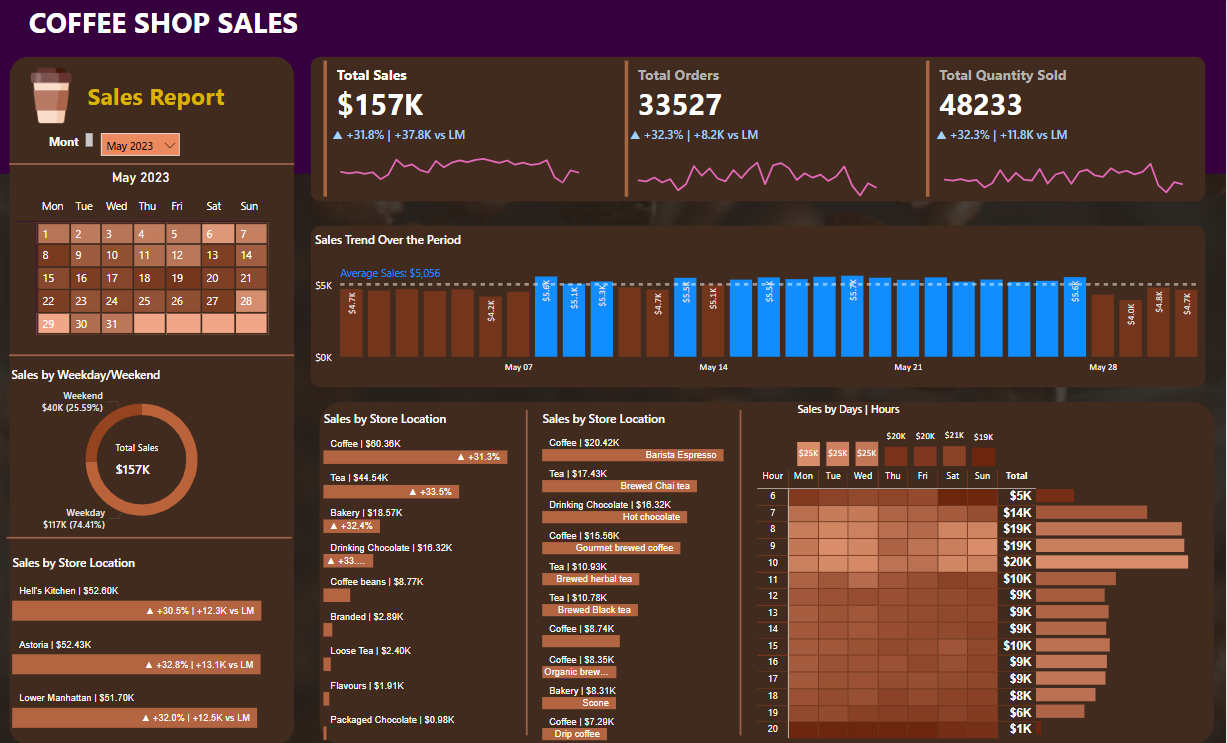

Layout of this report page (visuals, bound fields, positions):
{"tool":"powerbi","page":{"name":"Page 1","canvas":[1400,850],"ordinal":0},"visuals":[{"type":"shape","box":[366,458.6,1019.8,391.7],"z":0},{"type":"shape","box":[0,0,1400.1,199.4],"z":1000},{"type":"shape","box":[12.8,65.5,324.7,784.8],"z":2000},{"type":"shape","box":[356.1,65.5,1019.8,165.2],"z":3000},{"type":"textbox","box":[29.9,0,336.1,65.5],"z":4000},{"type":"cardVisual","fields":{"Data":["Transactions.Total Sales"]},"box":[366,65.5,300.5,165.2],"z":5000},{"type":"slicer","fields":{"Values":["Date Table.Month Year"]},"box":[112.5,148.1,99.7,34.2],"z":6000},{"type":"lineChart","fields":{"Category":["Date Table.Date Hierarchy.Date"],"Y":["Transactions.Total Sales"]},"box":[376,145.3,300.5,85.5],"z":7000},{"type":"cardVisual","fields":{"Data":["Transactions.Total Orders"]},"box":[709.3,65.5,300.5,165.2],"z":8000},{"type":"lineChart","fields":{"Category":["Date Table.Date Hierarchy.Date"],"Y":["Transactions.Total Orders"]},"box":[715,145.3,300.5,85.5],"z":9000},{"type":"cardVisual","fields":{"Data":["Transactions.Total Quantity Sold"]},"box":[1052.5,65.5,300.5,165.2],"z":10000},{"type":"lineChart","fields":{"Category":["Date Table.Date Hierarchy.Date"],"Y":["Transactions.Total Quantity Sold"]},"box":[1063.9,145.3,300.5,85.5],"z":11000},{"type":"pivotTable","fields":{"Rows":["Date Table.Week Number"],"Columns":["Date Table.Day Name"],"Values":["Min(Date Table.Day Number)"]},"box":[12.8,219.3,304.8,189.4],"z":12000},{"type":"cardVisual","fields":{"Data":["Min(Date Table.Month Year)"]},"box":[112.5,169.5,105.4,49.8],"z":13000},{"type":"shape","box":[12.8,387.4,324.7,37],"z":14000},{"type":"shape","box":[12.8,169.5,324.7,37],"z":15000},{"type":"donutChart","title":" Sales by Weekday/Weekend","fields":{"Category":["Date Table.Weekday/Weekend"],"Y":["Transactions.Total Sales"]},"box":[10,418.7,307.6,195.1],"z":16000},{"type":"cardVisual","fields":{"Data":["Transactions.Total Sales"]},"box":[116.8,487.1,101.1,59.8],"z":17000},{"type":"shape","box":[10,595.3,324.7,37],"z":18000},{"type":"clusteredBarChart","title":"Sales by Store Location","fields":{"Y":["Transactions.Placeholder","Transactions.Total Sales"],"Category":["Transactions.store_location"]},"box":[11.4,632.4,321.9,206.5],"z":19000},{"type":"shape","box":[356.1,257.8,1019.8,185.2],"z":20000},{"type":"columnChart","title":"Sales Trend Over the Period","fields":{"Category":["Transactions.transaction_date"],"Y":["Transactions.Total Sales"]},"box":[356.1,264.9,1019.8,170.9],"z":21000},{"type":"clusteredBarChart","title":"Sales by Store Location","fields":{"Y":["Transactions.Placeholder","Transactions.Total Sales"],"Category":["Transactions.product_category"]},"box":[366,468.6,250.7,381.7],"z":22000},{"type":"shape","box":[588.2,468.6,28.5,370.3],"z":23000},{"type":"clusteredBarChart","title":"Sales by Store Location","fields":{"Y":["Transactions.Placeholder","Transactions.Total Sales"],"Category":["Transactions.product_type"]},"box":[615.3,468.6,250.7,381.7],"z":24000},{"type":"shape","box":[831.8,468.6,28.5,370.3],"z":25000},{"type":"pivotTable","fields":{"Rows":["Transactions.Hour"],"Columns":["Date Table.Day Name"],"Values":["Transactions.Total Sales"]},"box":[860.3,531.3,354.6,319],"z":26000},{"type":"clusteredBarChart","fields":{"Category":["Transactions.Hour"],"Y":["Transactions.Total Sales"]},"box":[1177.9,545.5,186.6,297.7],"z":27000},{"type":"columnChart","title":"Sales by Days | Hours","fields":{"Y":["Transactions.Total Sales"],"Category":["Date Table.Day Name"]},"box":[905.8,458.6,236,79.8],"z":28000},{"type":"textbox","box":[52.7,148.1,59.8,29.9],"z":29000},{"type":"textbox","box":[96.9,86.9,179.5,48.4],"z":30000},{"type":"image","box":[24.2,65.5,72.6,88.3],"z":31000}]}

Visuals, with their boxes in screenshot pixels (x1, y1, x2, y2), scaled from the page's 1400x850 canvas onto the 1227x743 screenshot:
shape: l=321, t=401, r=1215, b=742
shape: l=0, t=0, r=1226, b=174
shape: l=11, t=57, r=296, b=742
shape: l=312, t=57, r=1206, b=202
textbox: l=26, t=0, r=321, b=57
cardVisual - Transactions.Total Sales: l=321, t=57, r=584, b=202
slicer - Date Table.Month Year: l=99, t=129, r=186, b=159
lineChart - Date Table.Date Hierarchy.Date x Transactions.Total Sales: l=330, t=127, r=593, b=202
cardVisual - Transactions.Total Orders: l=622, t=57, r=885, b=202
lineChart - Date Table.Date Hierarchy.Date x Transactions.Total Orders: l=627, t=127, r=890, b=202
cardVisual - Transactions.Total Quantity Sold: l=922, t=57, r=1186, b=202
lineChart - Date Table.Date Hierarchy.Date x Transactions.Total Quantity Sold: l=932, t=127, r=1196, b=202
pivotTable - Date Table.Week Number x Date Table.Day Name: l=11, t=192, r=278, b=357
cardVisual - Min(Date Table.Month Year): l=99, t=148, r=191, b=192
shape: l=11, t=339, r=296, b=371
shape: l=11, t=148, r=296, b=181
" Sales by Weekday/Weekend" donutChart: l=9, t=366, r=278, b=537
cardVisual - Transactions.Total Sales: l=102, t=426, r=191, b=478
shape: l=9, t=520, r=293, b=553
"Sales by Store Location" clusteredBarChart: l=10, t=553, r=292, b=733
shape: l=312, t=225, r=1206, b=387
"Sales Trend Over the Period" columnChart: l=312, t=232, r=1206, b=381
"Sales by Store Location" clusteredBarChart: l=321, t=410, r=540, b=742
shape: l=516, t=410, r=540, b=733
"Sales by Store Location" clusteredBarChart: l=539, t=410, r=759, b=742
shape: l=729, t=410, r=754, b=733
pivotTable - Transactions.Hour x Date Table.Day Name: l=754, t=464, r=1065, b=742
clusteredBarChart - Transactions.Hour x Transactions.Total Sales: l=1032, t=477, r=1196, b=737
"Sales by Days | Hours" columnChart: l=794, t=401, r=1001, b=471
textbox: l=46, t=129, r=99, b=156
textbox: l=85, t=76, r=242, b=118
image: l=21, t=57, r=85, b=134
